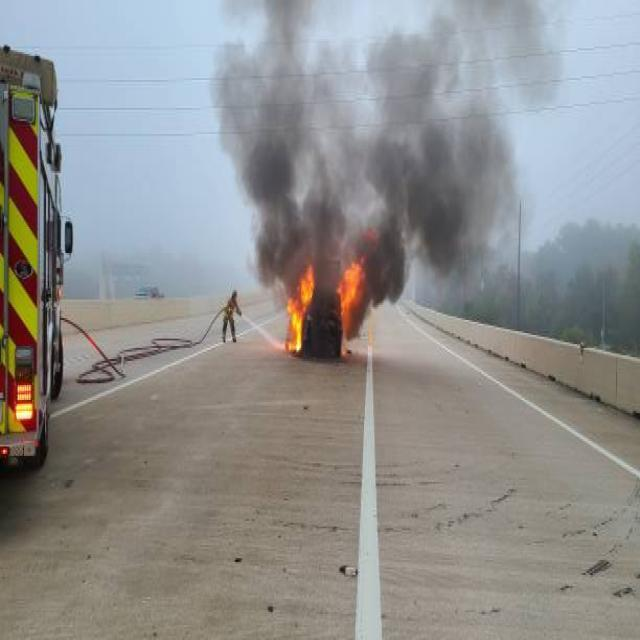Fire: (285, 266, 315, 352), (339, 260, 365, 336)
Smoke: (210, 0, 562, 305)
